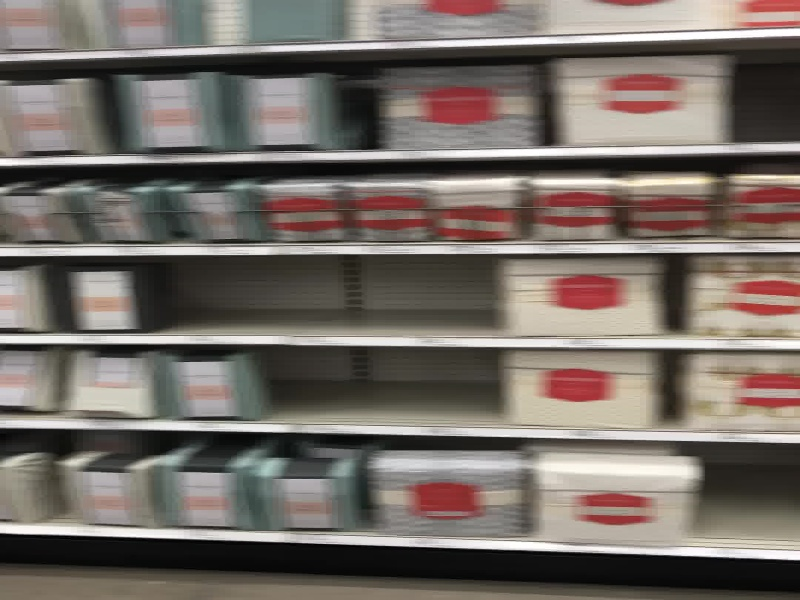empty_shelf_space: (151, 253, 491, 336), (256, 347, 497, 427), (695, 441, 800, 545), (730, 36, 800, 141)
